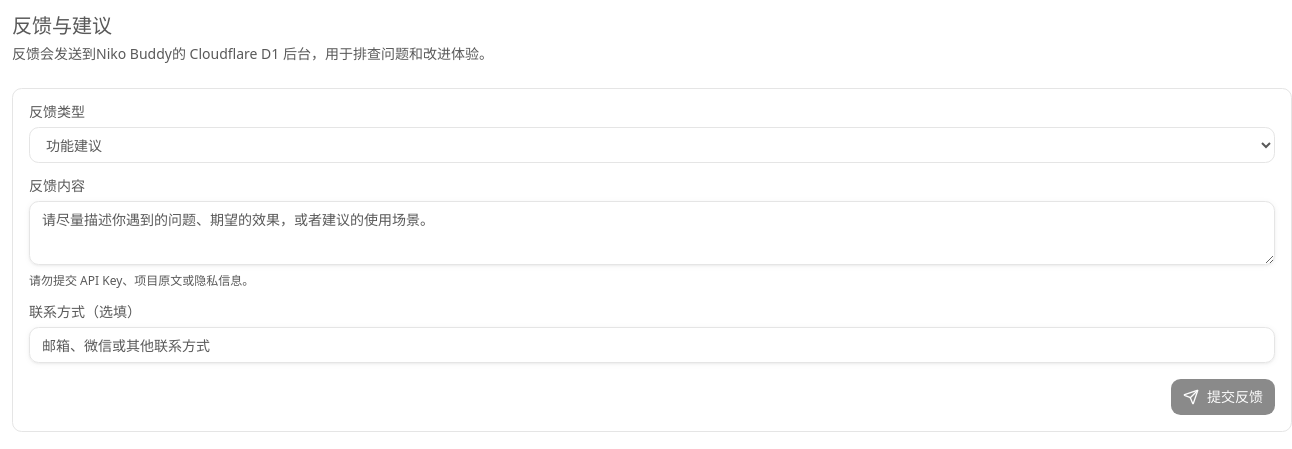
Test: FeedbackSection › submit failure with an Error shows its message in destructive styling
In the text box labelled "反馈内容": (652, 233) [29,201,1275,265], type "x"
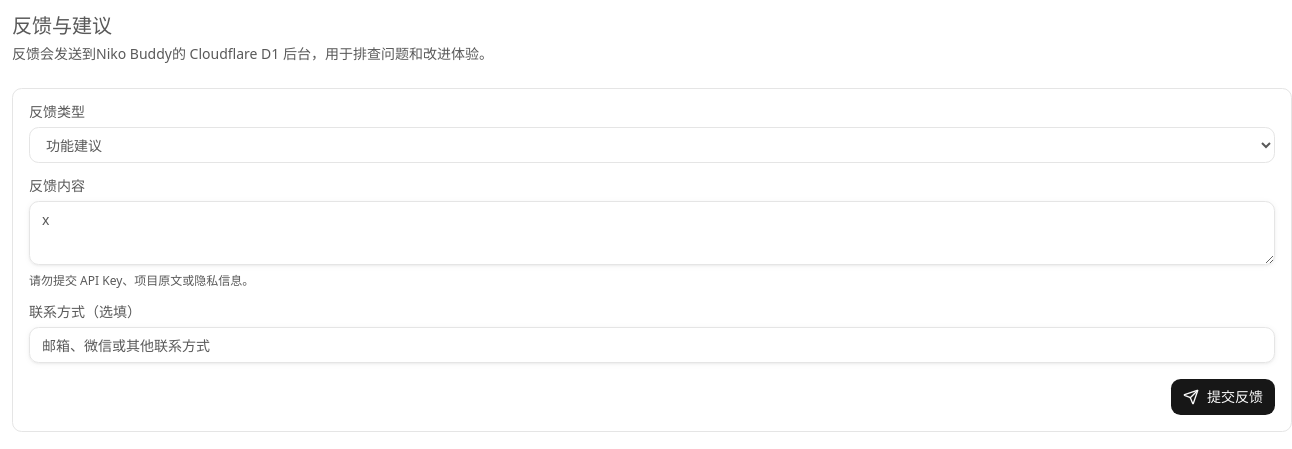
Click the button "提交反馈": (1223, 397) [1171,379,1275,415]
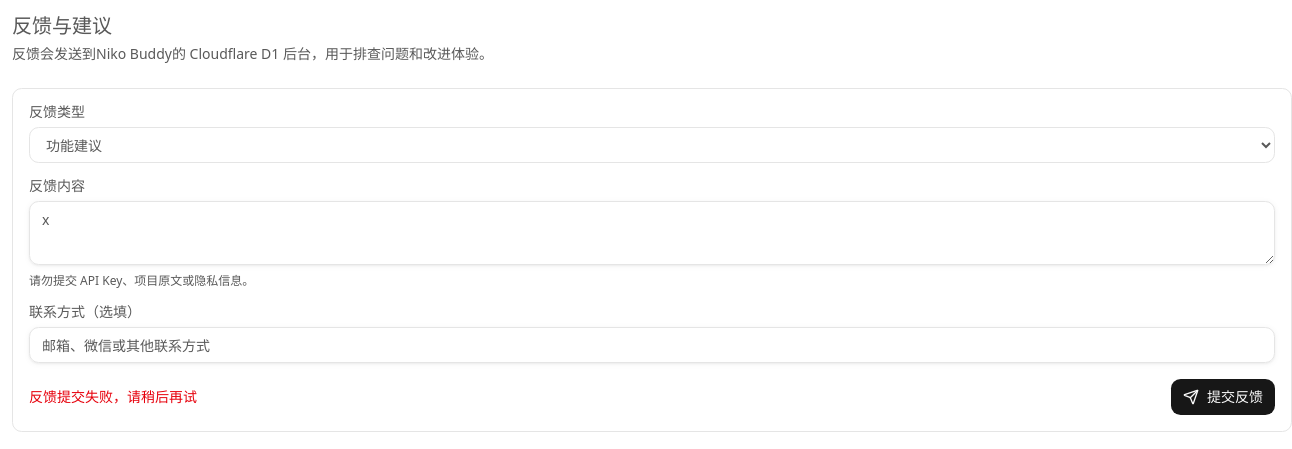
Expected: the button "提交反馈" is enabled, [1171,379,1275,415]
Expected: the text "反馈提交失败，请稍后再试" is shown, [29,387,197,407]
